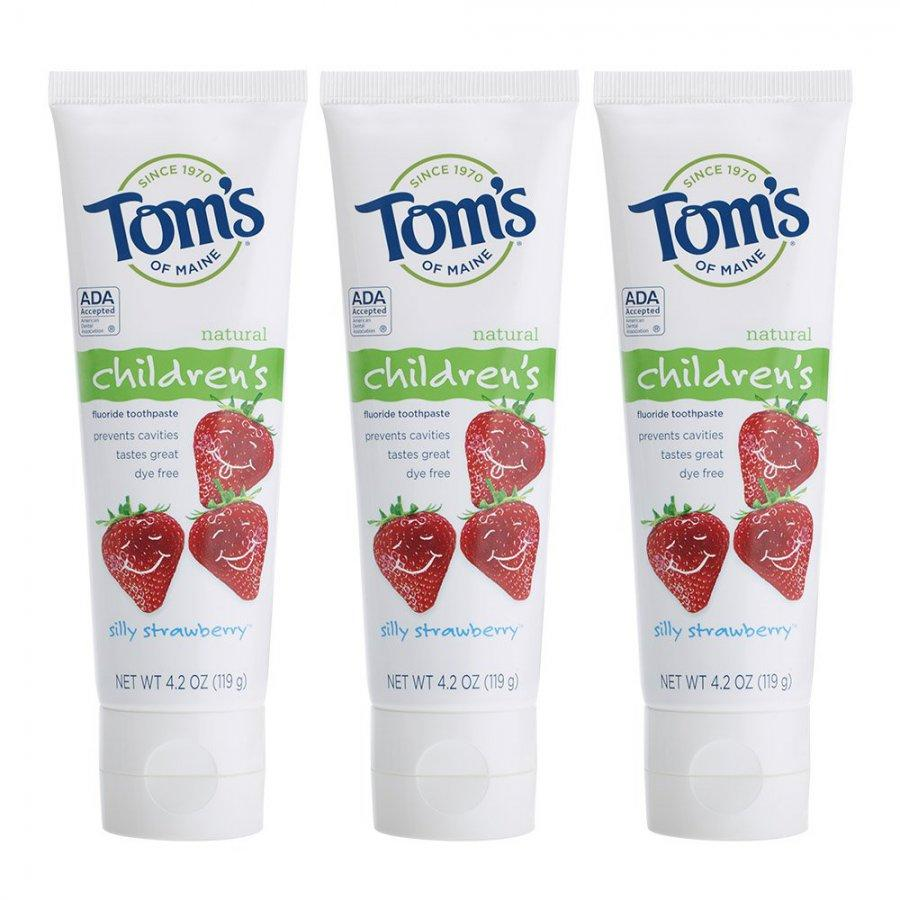toothpaste: (39, 58, 311, 845), (588, 66, 847, 851), (325, 62, 565, 855)
